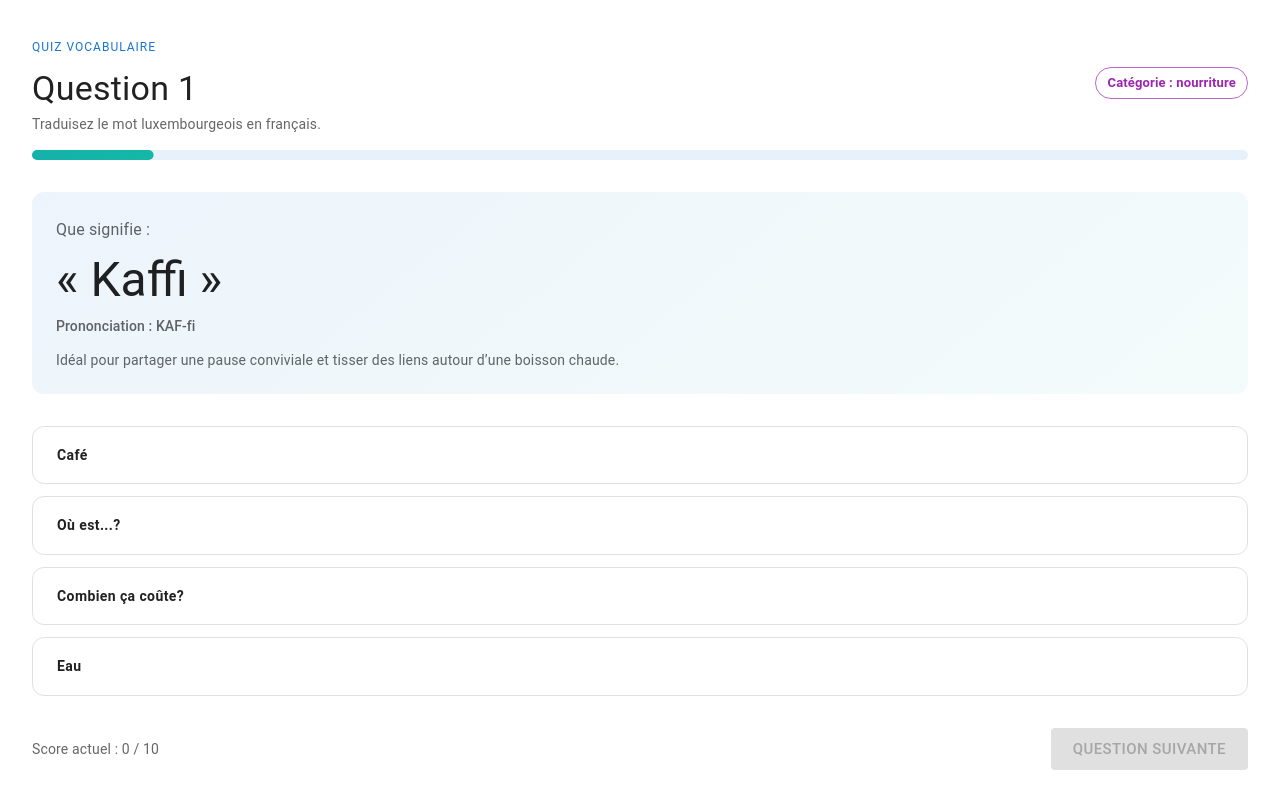
Test: VocabularyQuiz › displays a hint when an incorrect answer is selected
Expected: the heading "Question 1" is shown, [32,68,197,108]
Click the button "Où est...?". click: {"x": 89, "y": 525}
box: [32,496,1248,555]
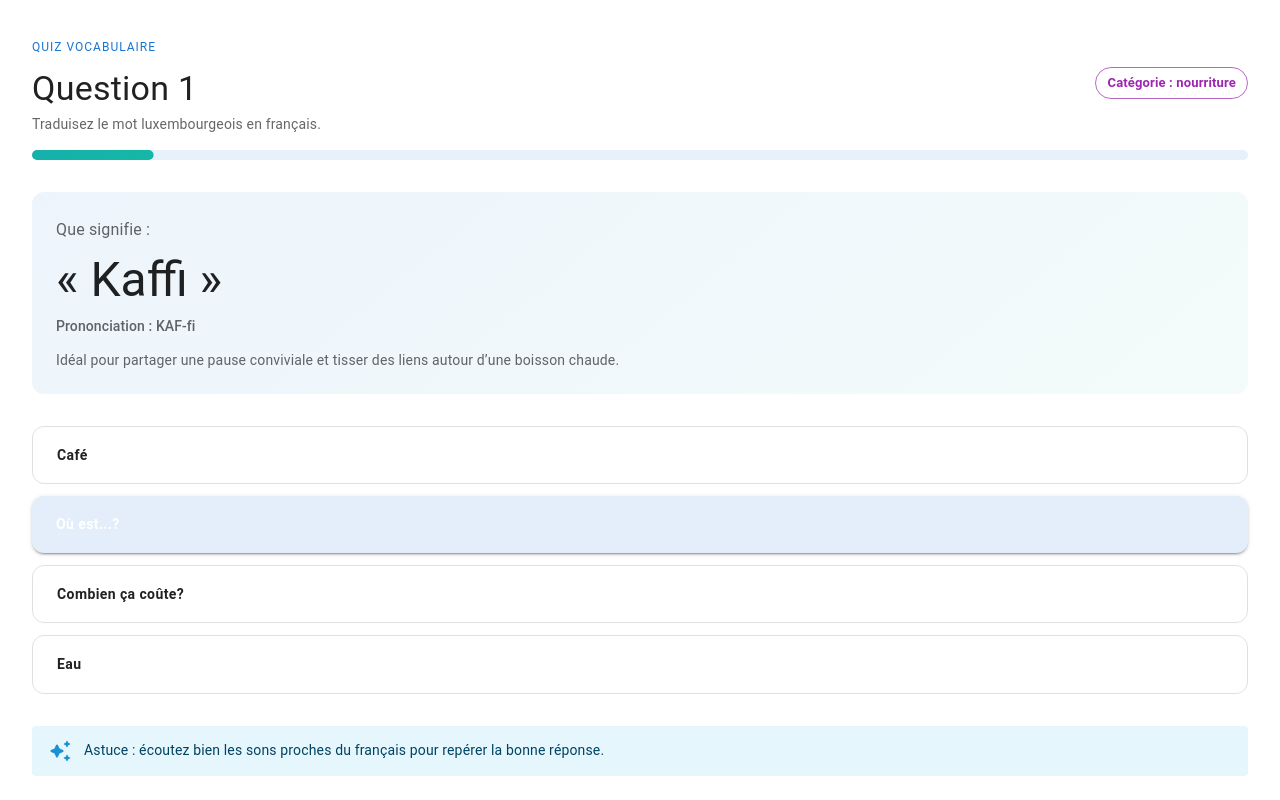
Result: the text "Astuce" is shown at [84,742,604,758]
